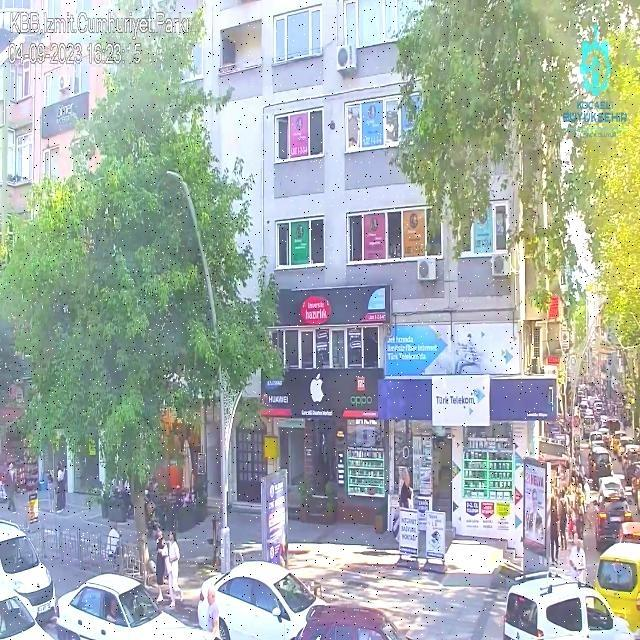Car: (49, 571, 221, 640), (198, 557, 329, 640), (504, 567, 638, 640), (590, 539, 640, 640), (297, 603, 424, 640), (594, 494, 636, 551)
Van: (0, 517, 58, 631)
